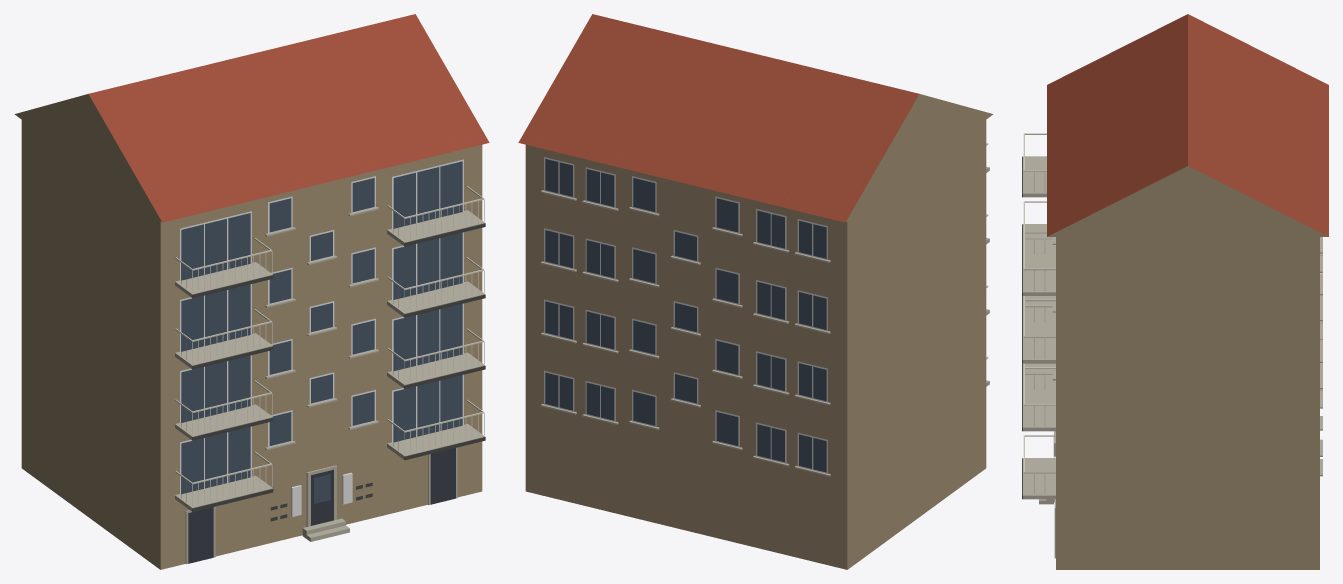
The model's file is nw-portiek-wide-core-beekenhoff__brick-buff__5__gable__long__solid.glb.
The picture shows the model from 3 angles, left to right: view 1: azimuth 30°, elevation 25°; view 2: azimuth 150°, elevation 25°; view 3: azimuth 270°, elevation 25°; orthographic projection. The views are drawn at different scales.
Parts seen in each view (by area): view 1: nw-portiek-wide-core-beekenhoff__brick-buff__5__gable__long_; view 2: nw-portiek-wide-core-beekenhoff__brick-buff__5__gable__long_; view 3: nw-portiek-wide-core-beekenhoff__brick-buff__5__gable__long_.
Boxes of the visible parts, box(x1,y1,x2,y2) form: nw-portiek-wide-core-beekenhoff__brick-buff__5__gable__long_: box(14, 14, 489, 569); nw-portiek-wide-core-beekenhoff__brick-buff__5__gable__long_: box(518, 14, 993, 569); nw-portiek-wide-core-beekenhoff__brick-buff__5__gable__long_: box(1022, 14, 1328, 569).
Size of the model in its own units: 14.16 by 17.62 by 12.09.
